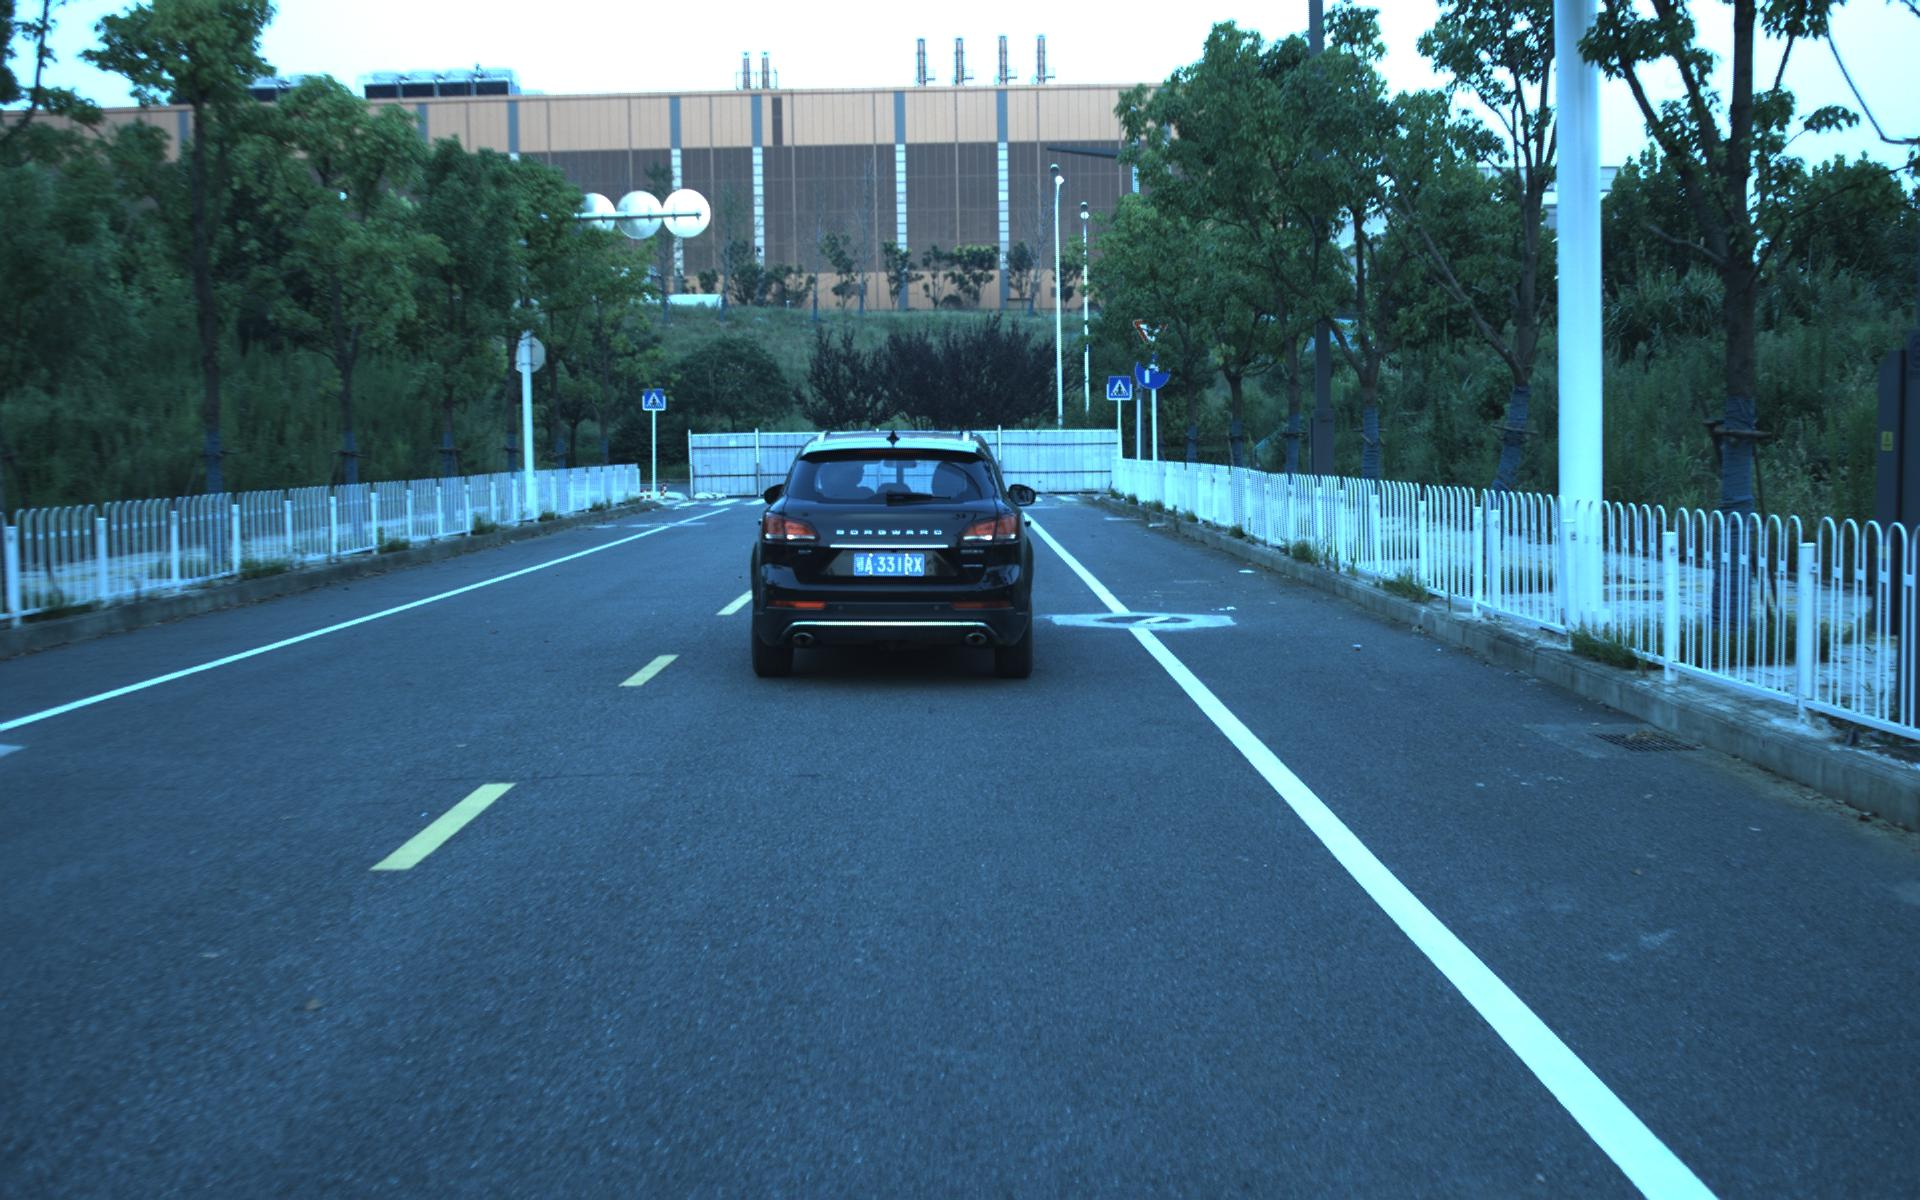Car: (746, 423, 1035, 682)
